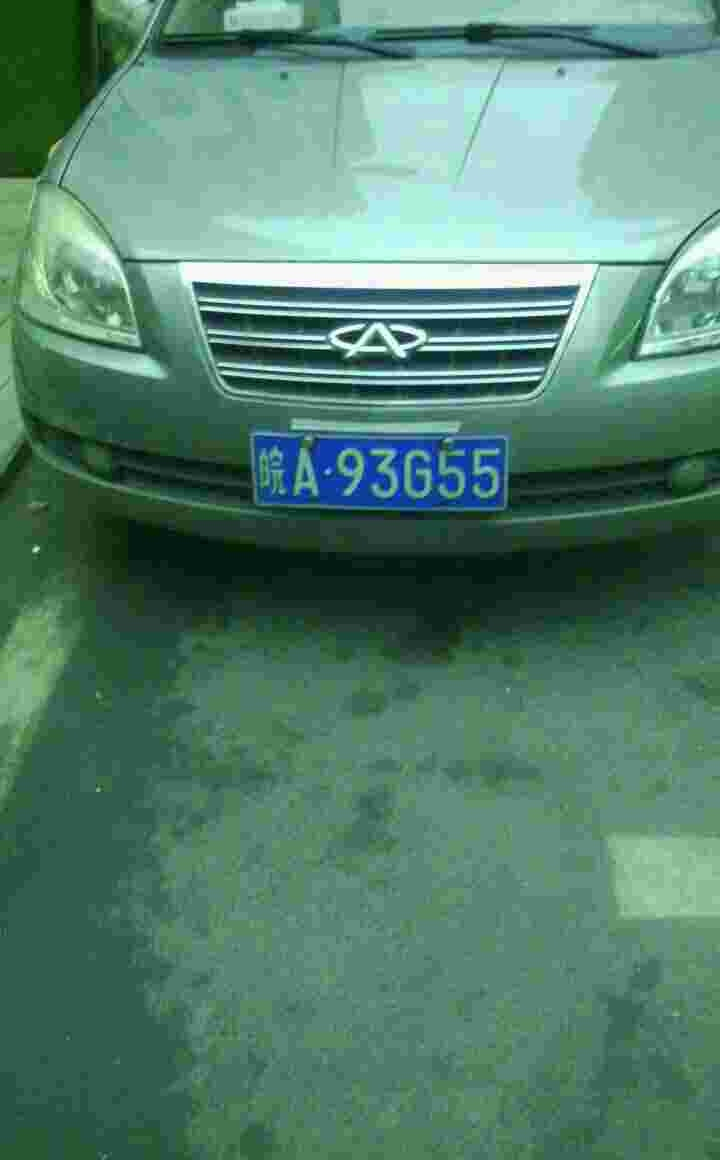license_plate: (256, 429, 514, 521)
